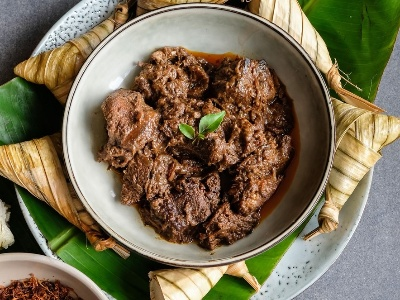rendang: (112, 64, 291, 222)
